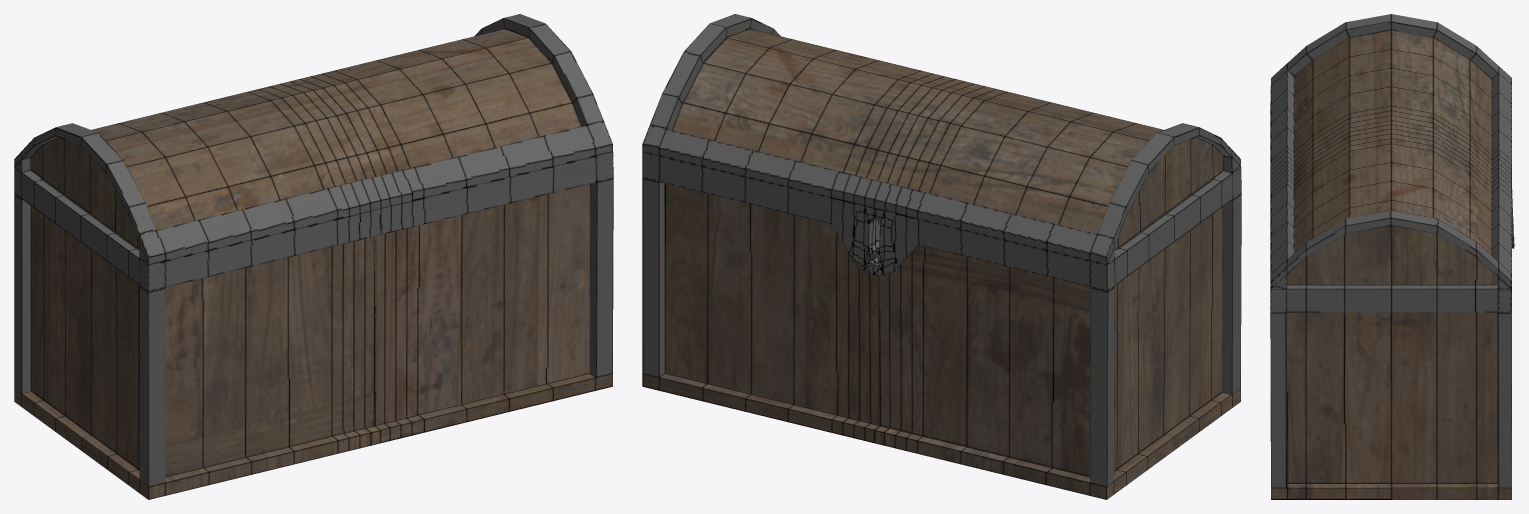
Rendered from TreasureChestUVtexure.fbx.
3 views of the same model, side by side, from view 1: azimuth 30°, elevation 25°; view 2: azimuth 150°, elevation 25°; view 3: azimuth 270°, elevation 25° (orthographic). The views are drawn at different scales.
Parts seen in each view (by area): view 1: Cube; view 2: Cube; view 3: Cube.
Boxes of the visible parts, <box> form: Cube: <box>14,14,613,499</box>; Cube: <box>642,14,1241,499</box>; Cube: <box>1270,14,1514,499</box>.
Size of the model in its own units: 401 by 259 by 203.
Materials: 1 (1 with a texture image).
